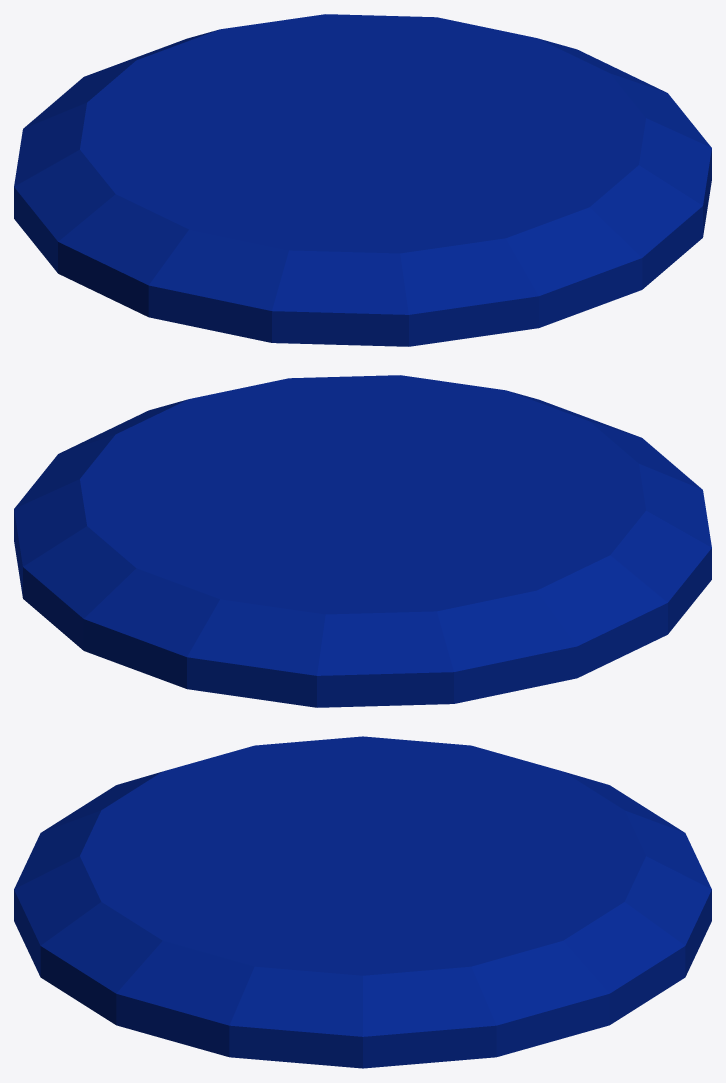
Rendered from gem.fbx.
3 renders of one model, top to bottom at view 1: azimuth 30°, elevation 25°; view 2: azimuth 150°, elevation 25°; view 3: azimuth 270°, elevation 25°, orthographic.
Parts seen in each view (by area): view 1: Cylinder; view 2: Cylinder; view 3: Cylinder.
Part boxes in pixels (left/top/right/bottom): Cylinder: left=14, top=14, right=711, bottom=346; Cylinder: left=14, top=375, right=711, bottom=707; Cylinder: left=14, top=736, right=711, bottom=1068.
Bounding box in the file's own units: 20 × 3.37 × 20.
Materials: 1 (1 with a texture image).
